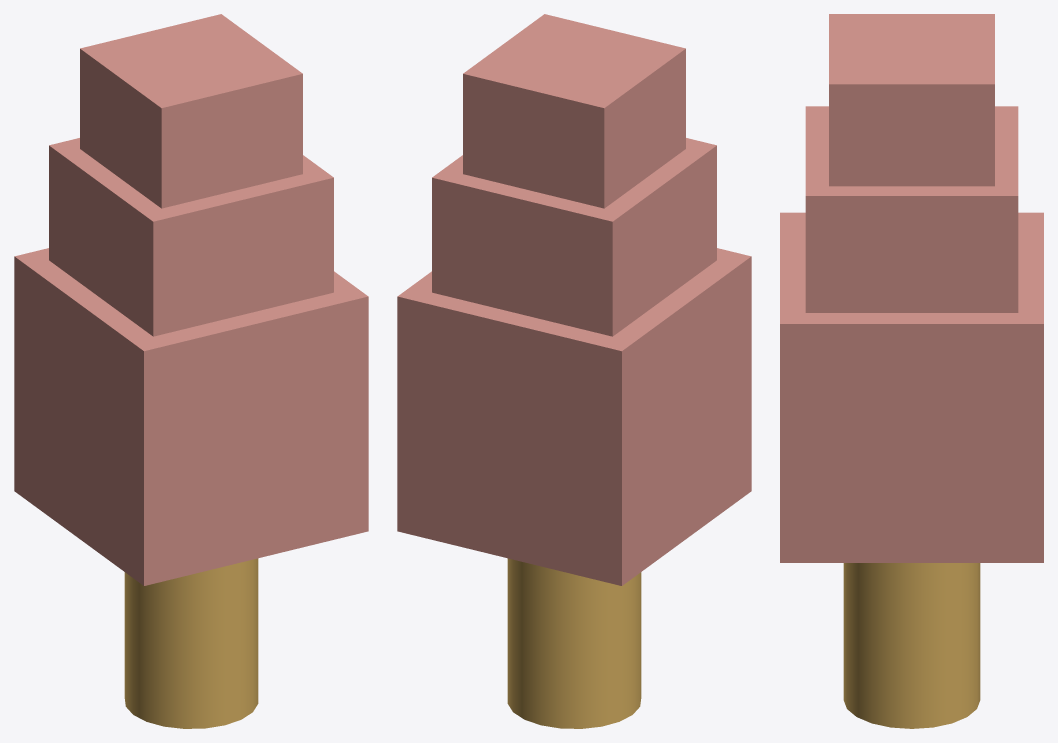
Rendered from cubos_rosa.fbx.
The picture shows the model from 3 angles, left to right: view 1: azimuth 30°, elevation 25°; view 2: azimuth 150°, elevation 25°; view 3: azimuth 270°, elevation 25°; orthographic projection.
Parts seen in each view (by area): view 1: pCube1, pCube2, pCube3, arvore8; view 2: pCube1, pCube2, pCube3, arvore8; view 3: pCube1, pCube2, pCube3, arvore8.
Boxes of the visible parts, <box> form: pCube1: <box>14,248,368,585</box>; pCube2: <box>49,138,333,336</box>; pCube3: <box>80,14,302,208</box>; arvore8: <box>124,558,258,728</box>; pCube1: <box>397,248,751,585</box>; pCube2: <box>432,138,716,336</box>; pCube3: <box>463,14,685,208</box>; arvore8: <box>507,558,641,728</box>; pCube1: <box>780,212,1043,562</box>; pCube2: <box>805,106,1018,312</box>; pCube3: <box>829,14,994,186</box>; arvore8: <box>843,563,980,728</box>.
Size of the model in its own units: 1.1 by 2.98 by 1.1.
